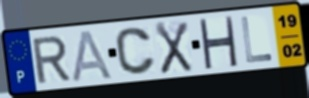A: (71, 28, 115, 83)
C: (113, 26, 158, 77)
H: (197, 16, 240, 70)
L: (239, 16, 275, 65)
R: (30, 33, 73, 86)
X: (153, 20, 194, 76)
